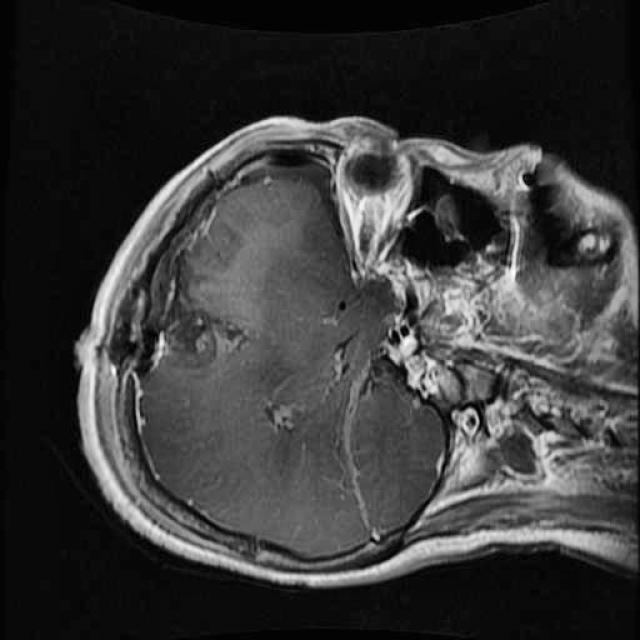Tumor: (118, 226, 262, 396)
